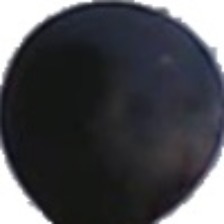grapes: (49, 43, 197, 221)
